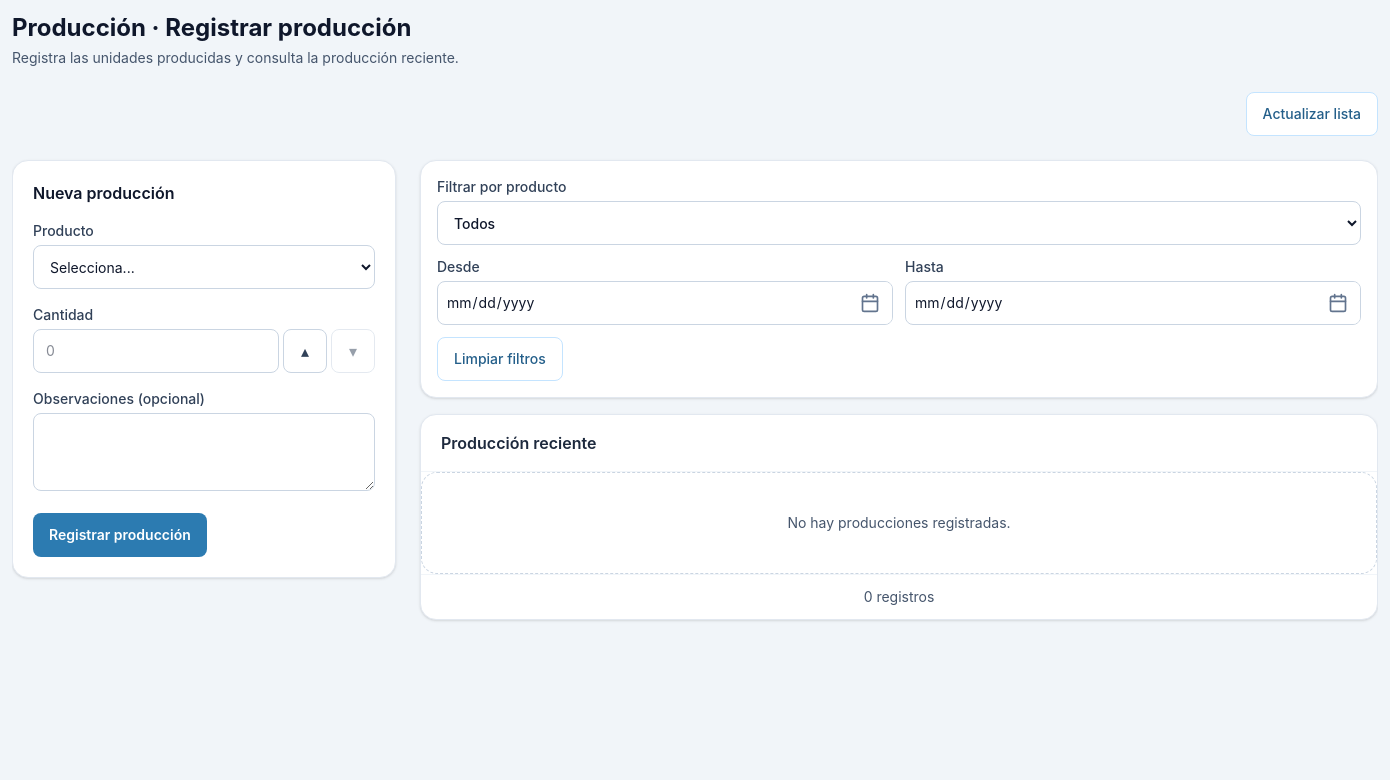
Test case: UX-12 · fallo de mutación conserva los campos y se cierra con Toast
Select "Agua" in the dropdown labelled "Producto" at (204, 267), box top-left (33, 245), bottom-right (375, 289)
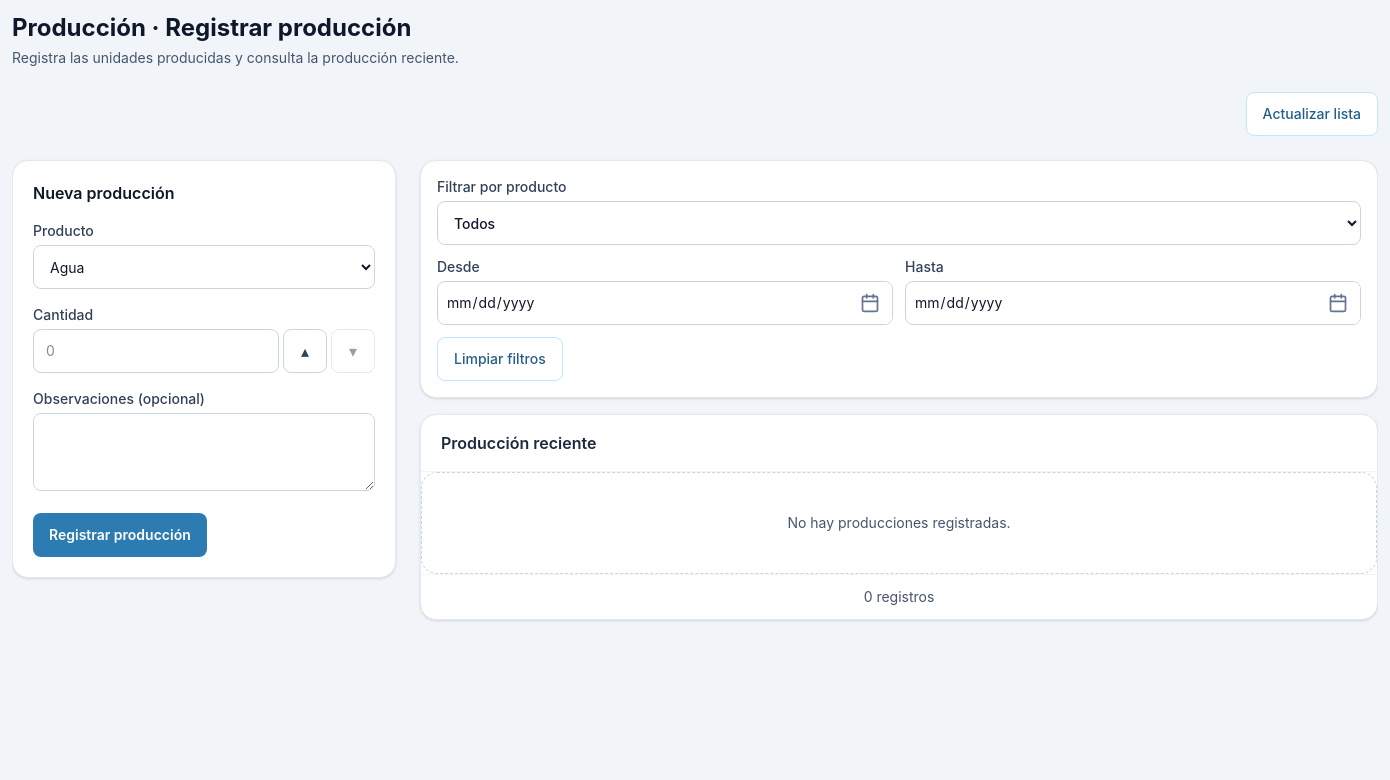
Type "12" into the field labelled "Cantidad".
click(156, 351); type("12")  # box top-left (33, 329), bottom-right (279, 373)
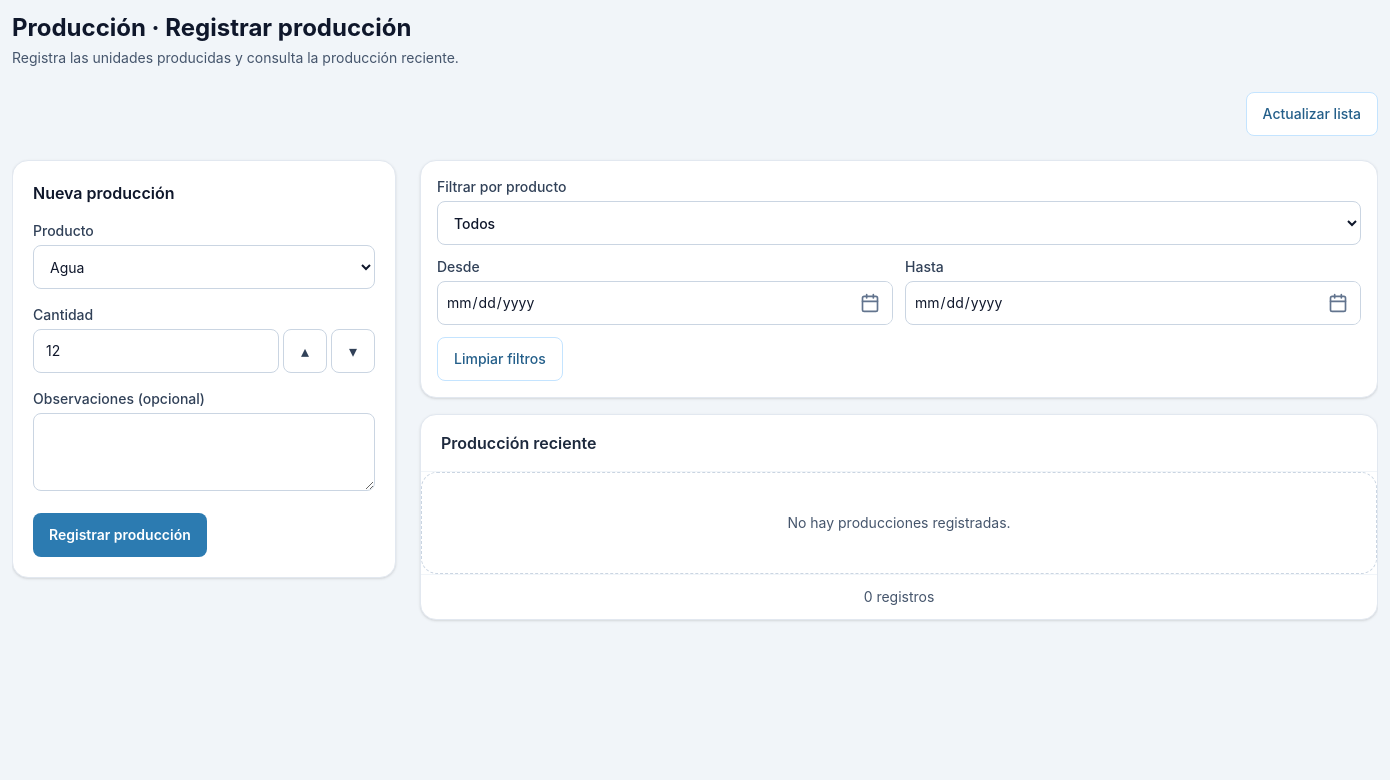
Click the button "Registrar producción".
click(120, 535)  # box top-left (33, 513), bottom-right (207, 557)
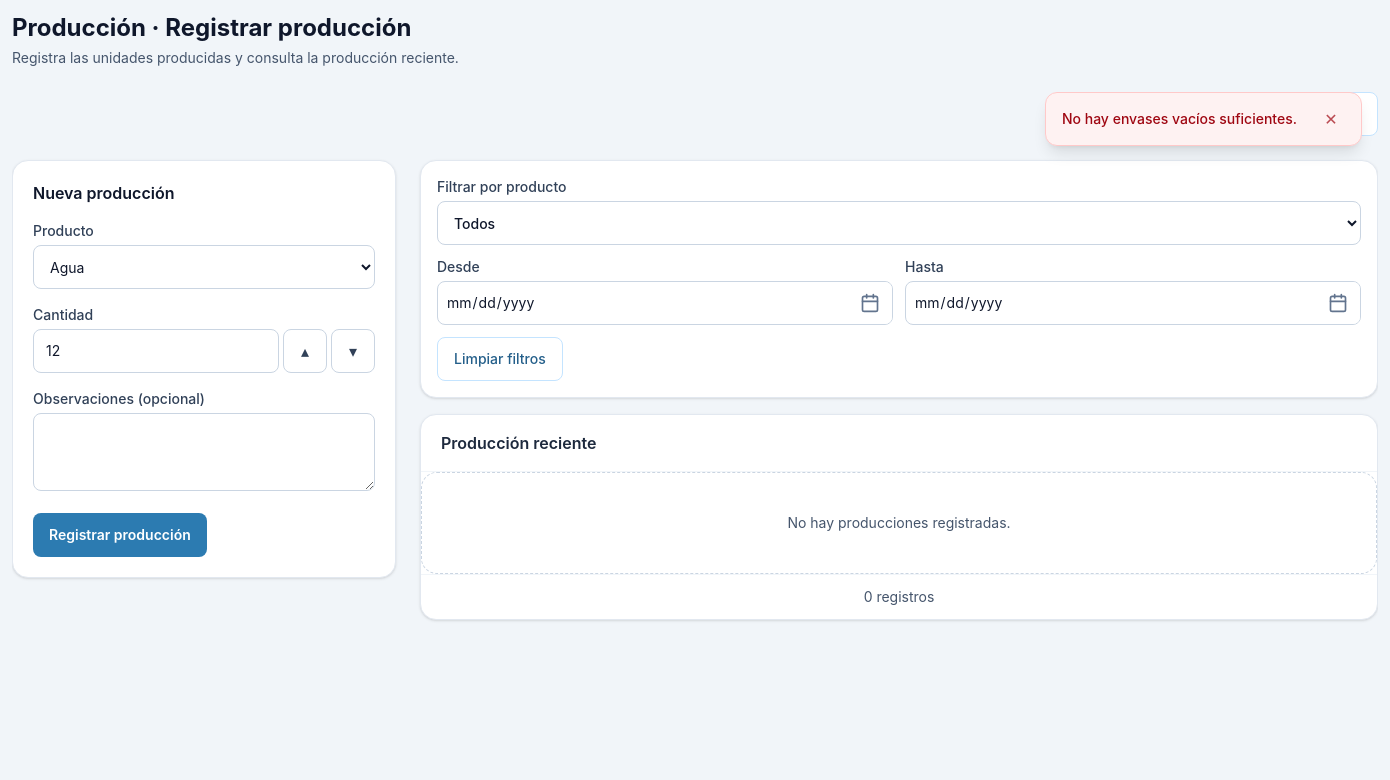
Click the button named "Cerrar notificación".
click(1331, 119)  # box top-left (1309, 97), bottom-right (1353, 141)
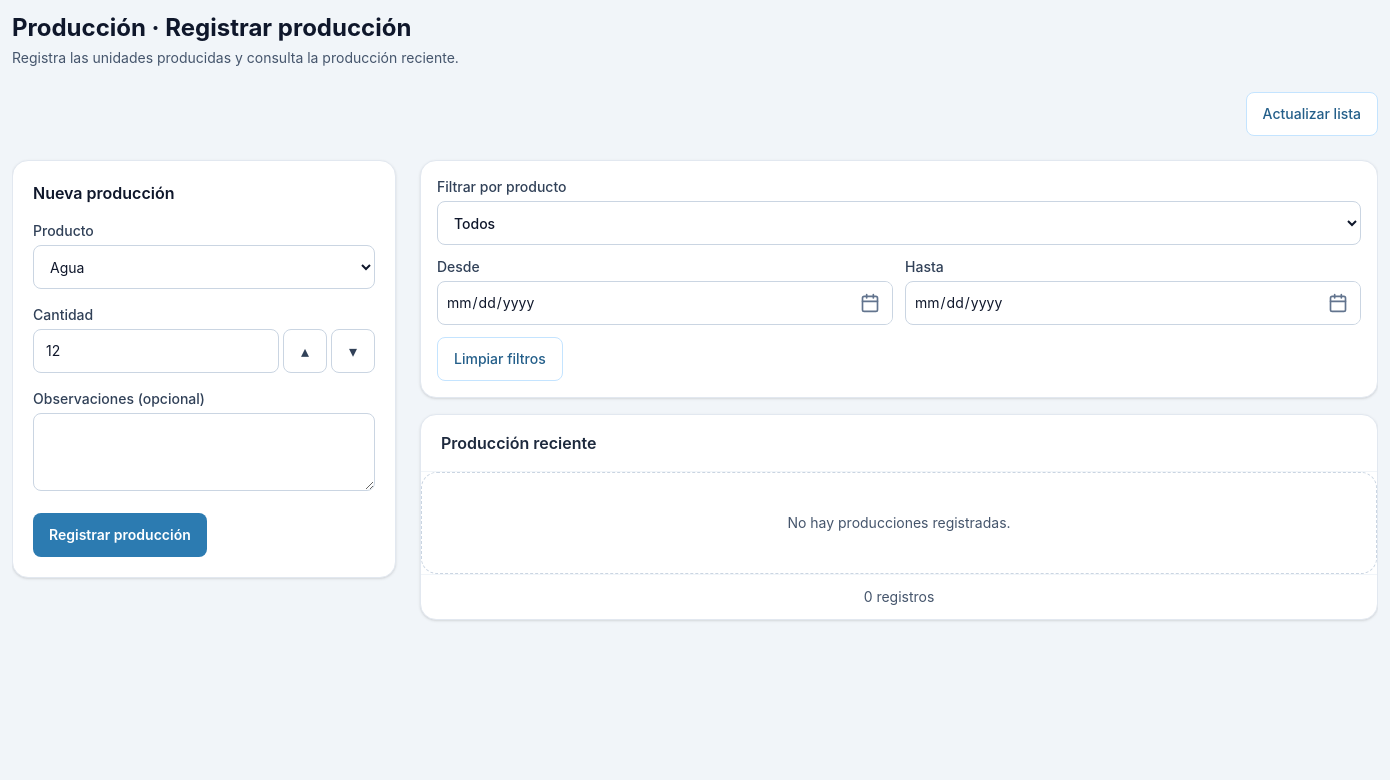
expect the message "No hay envases vacíos suficientes. ✕" is gone: met
